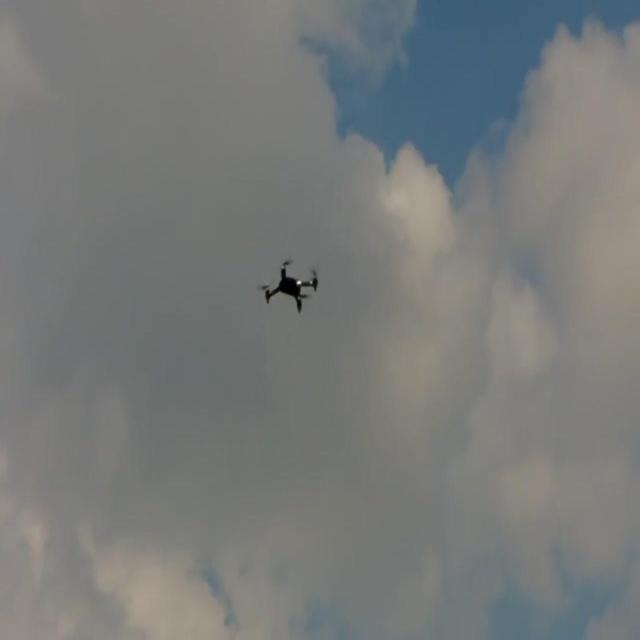drone: (258, 258, 320, 315)
